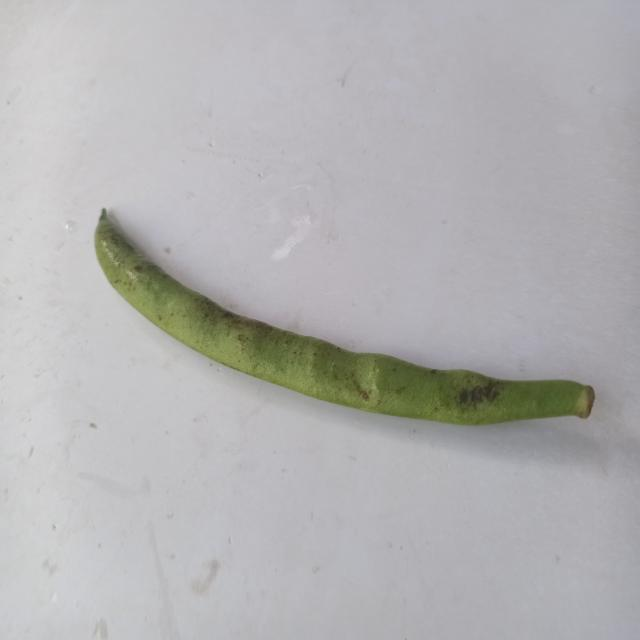Beans: (77, 162, 598, 472)
